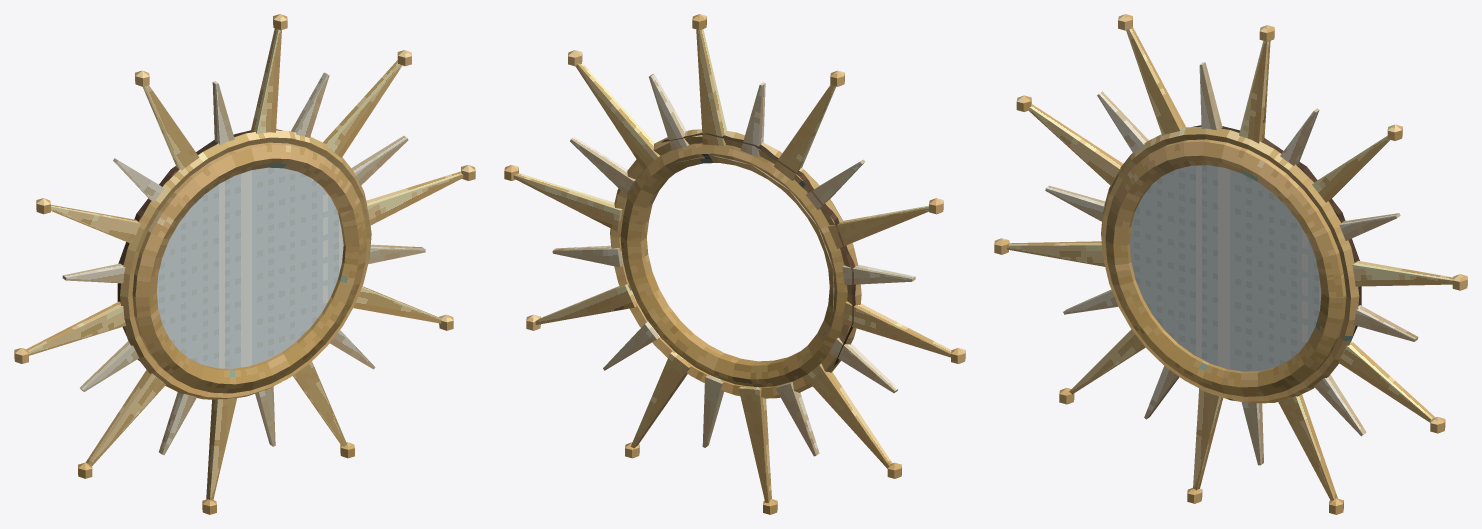
Rendered from sunburst_mirror.glb.
3 renders of one model, left to right at view 1: azimuth 30°, elevation 25°; view 2: azimuth 150°, elevation 25°; view 3: azimuth 330°, elevation 25°, orthographic. The views are drawn at different scales.
Parts seen in each view (by area): view 1: static; view 2: static; view 3: static.
Boxes of the visible parts, x1,y1,x2,y2 form: static: (14,14,475,514); static: (504,14,965,514); static: (994,14,1467,514).
Size of the model in its own units: 2.02 by 2.03 by 0.1094.
Materials: 1 (1 with a texture image).
